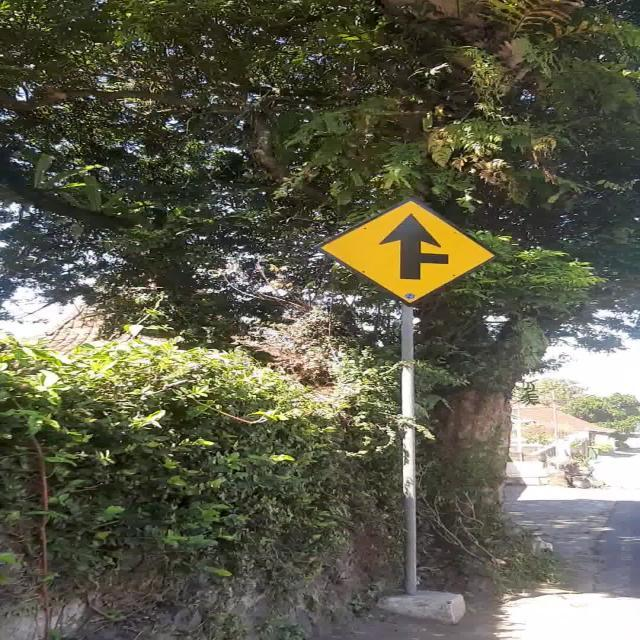Persimpangan 3 Prioritas Kanan: (313, 198, 499, 306)
